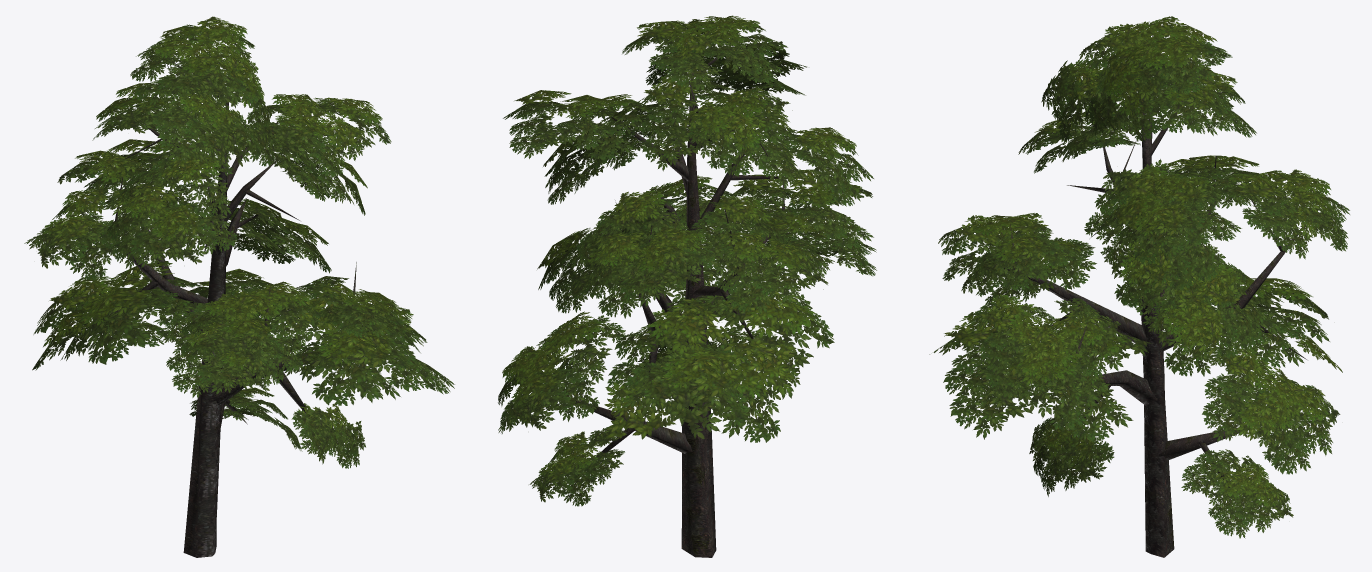
The model's file is tree_002_H.FBX.
The picture shows the model from 3 angles, left to right: view 1: azimuth 30°, elevation 25°; view 2: azimuth 150°, elevation 25°; view 3: azimuth 270°, elevation 25°; orthographic projection. The views are drawn at different scales.
Parts seen in each view (by area): view 1: tree_002_H; view 2: tree_002_H; view 3: tree_002_H.
Part boxes in pixels (x1,y1,x2,y2): tree_002_H: (24,16,454,557); tree_002_H: (498,15,876,557); tree_002_H: (929,16,1349,557).
Bounding box in the file's own units: 8.89 × 12.89 × 10.
1 material, 1 textured.
